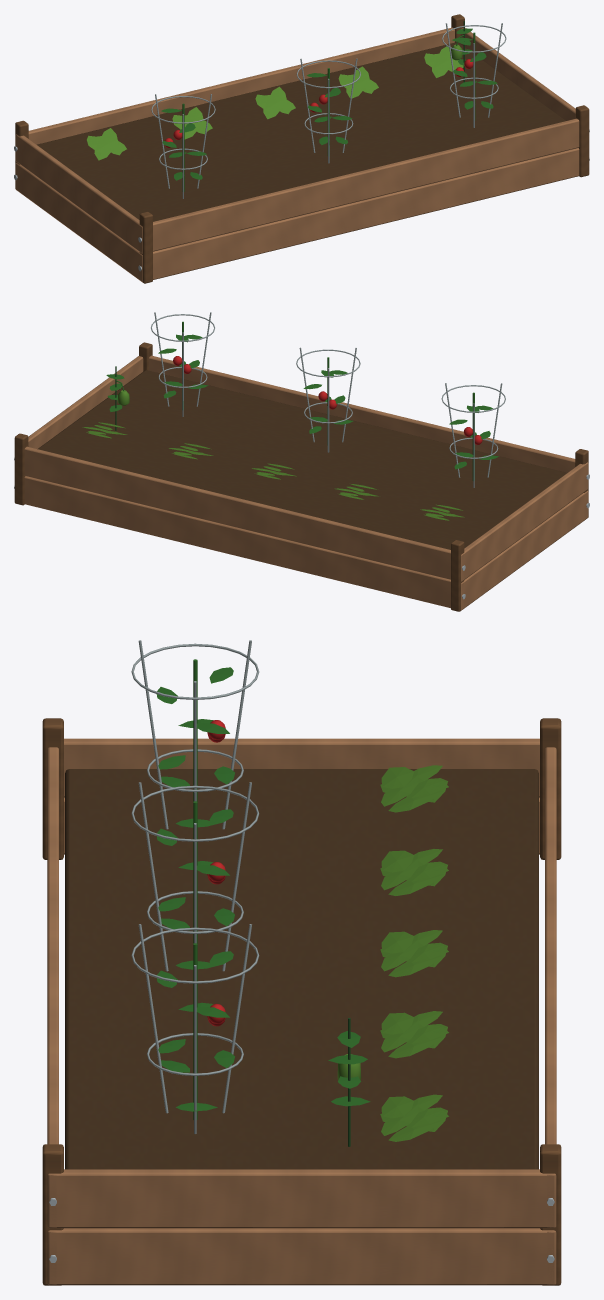
File: RaisedGardenBed.fbx
The picture shows the model from 3 angles, top to bottom: view 1: azimuth 30°, elevation 25°; view 2: azimuth 150°, elevation 25°; view 3: azimuth 270°, elevation 25°; orthographic projection. The views are drawn at different scales.
Visible parts, largest first — view 1: RaisedGardenBed__Body, RaisedGardenBed__Plants; view 2: RaisedGardenBed__Body, RaisedGardenBed__Plants; view 3: RaisedGardenBed__Body, RaisedGardenBed__Plants.
Part boxes in pixels (x1,y1,x2,y2): RaisedGardenBed__Body: (14, 14, 589, 283); RaisedGardenBed__Plants: (87, 21, 506, 198); RaisedGardenBed__Body: (14, 342, 589, 611); RaisedGardenBed__Plants: (82, 312, 505, 520); RaisedGardenBed__Body: (42, 718, 561, 1285); RaisedGardenBed__Plants: (131, 640, 448, 1146).
Size of the model in its own units: 241 by 70 by 120.
1 material, 1 textured.
